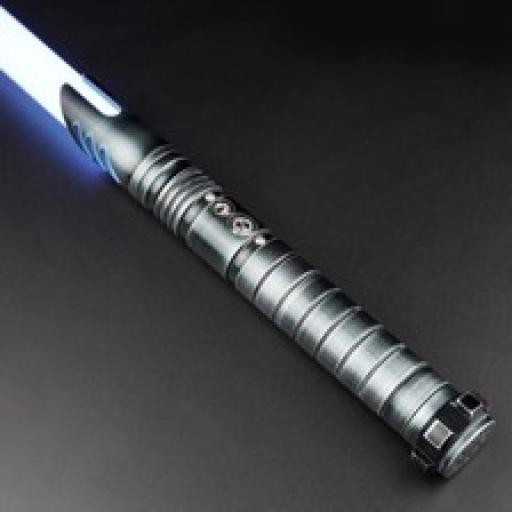lightsaber: (2, 3, 498, 475)
